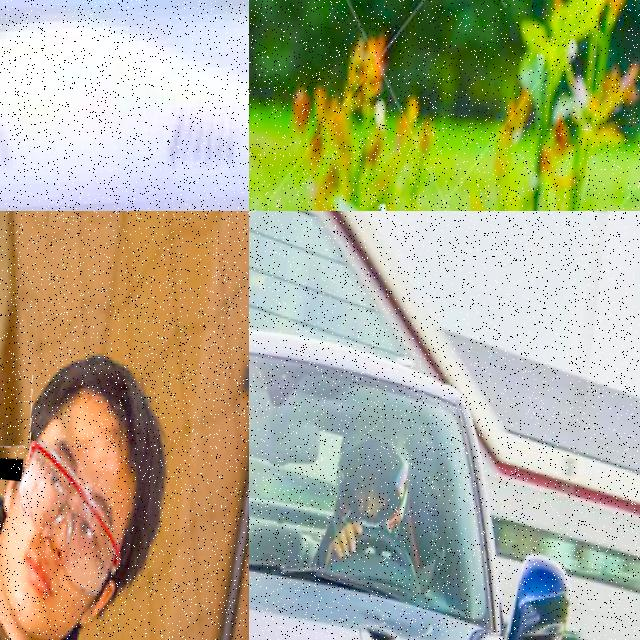drone: (0, 0, 249, 211)
